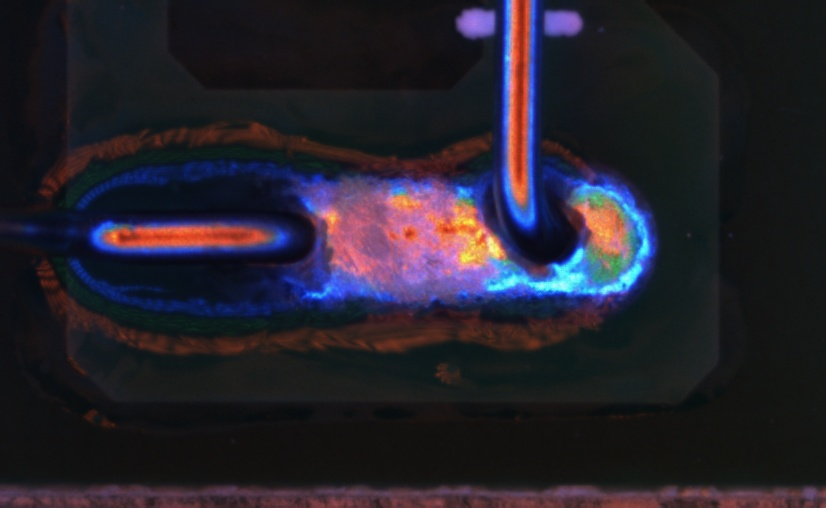offset: (188, 158, 659, 318)
spring_offset: (492, 2, 575, 262), (1, 206, 314, 264)
